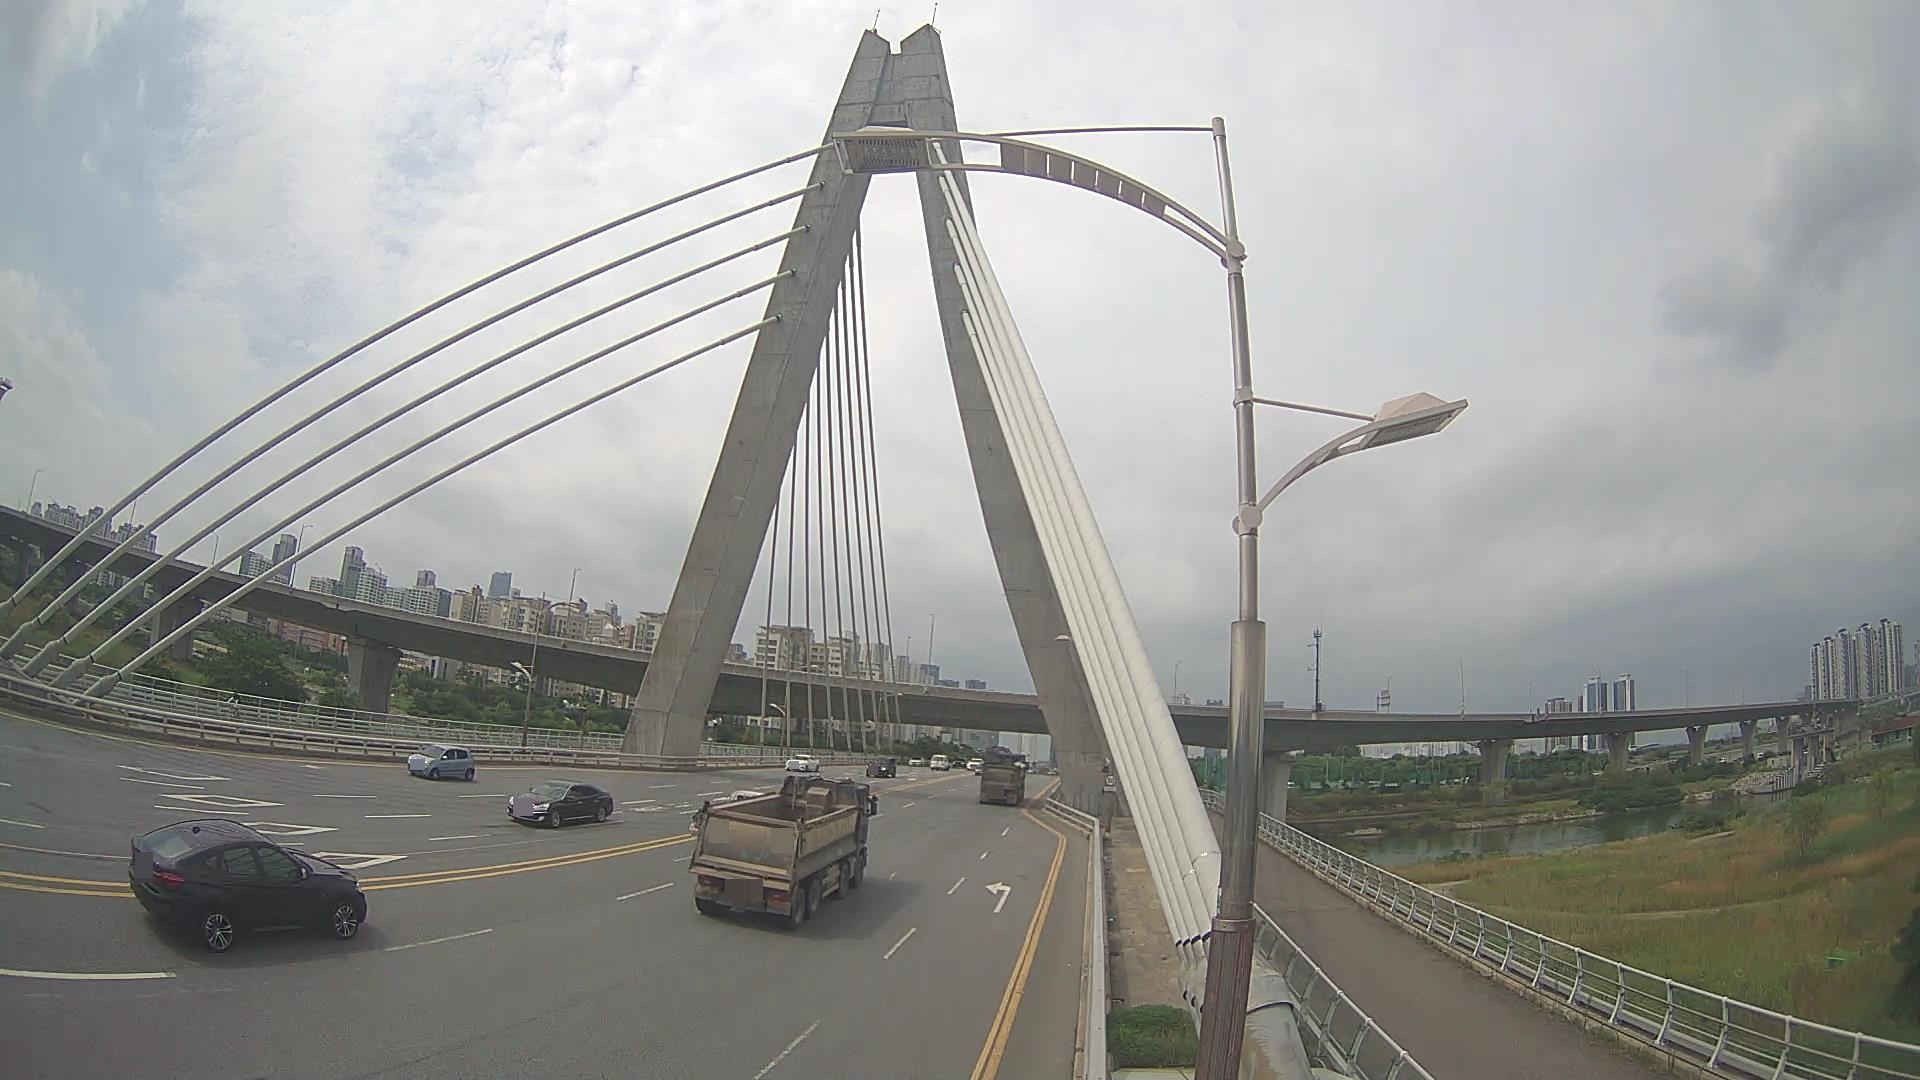정상차량: (688, 773, 880, 931)
